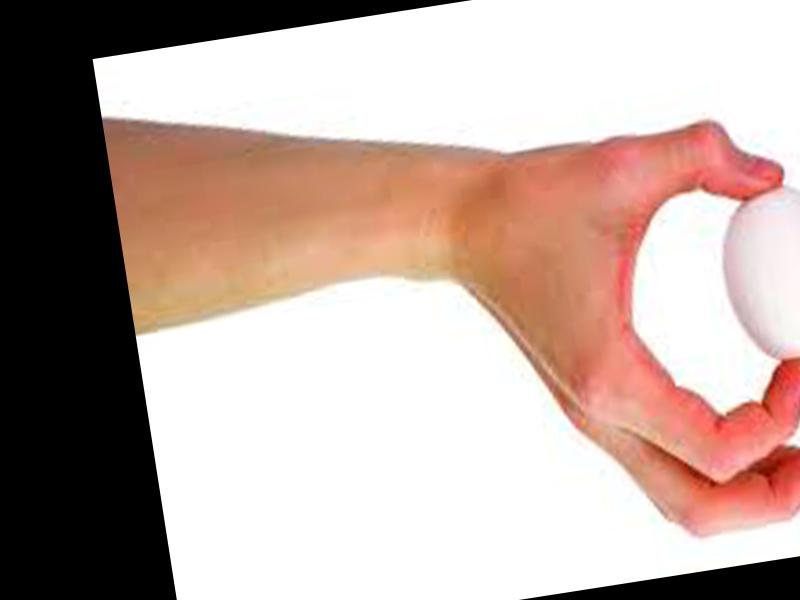Eggs: (712, 179, 800, 369)
